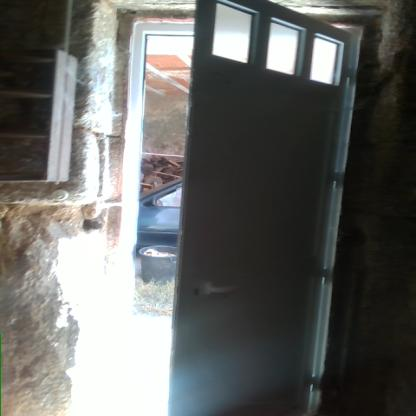semi: (89, 0, 349, 410)
